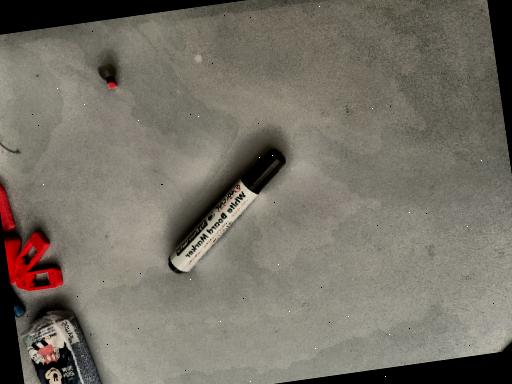marcador negro: (169, 148, 286, 273)
